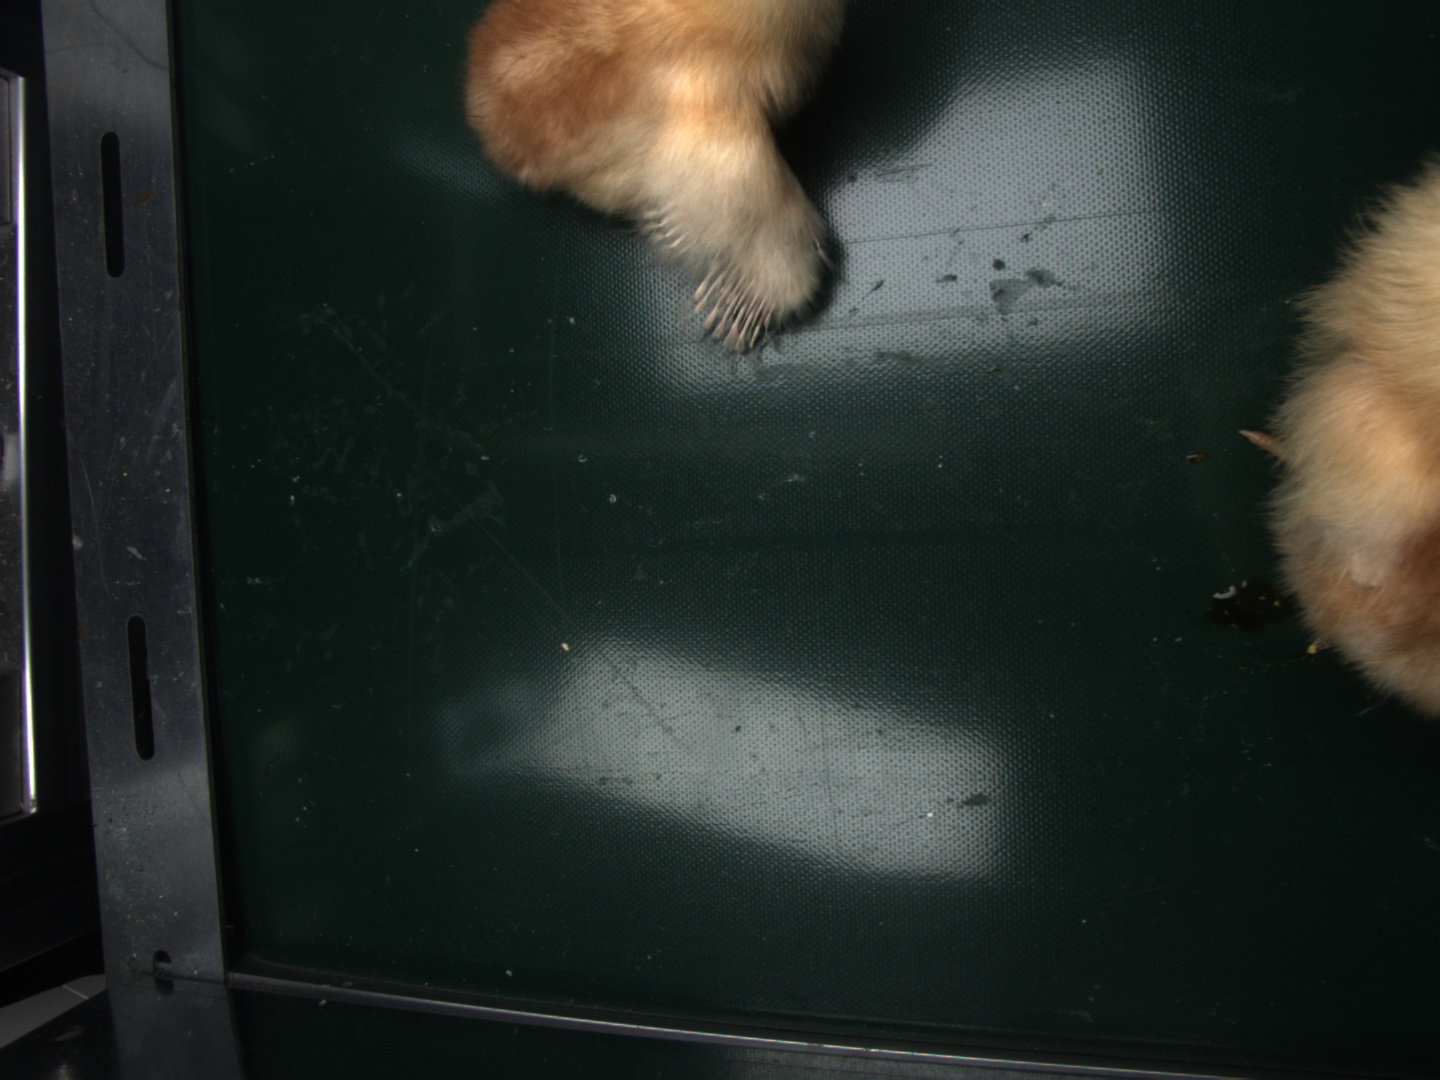female: (691, 265, 777, 351)
